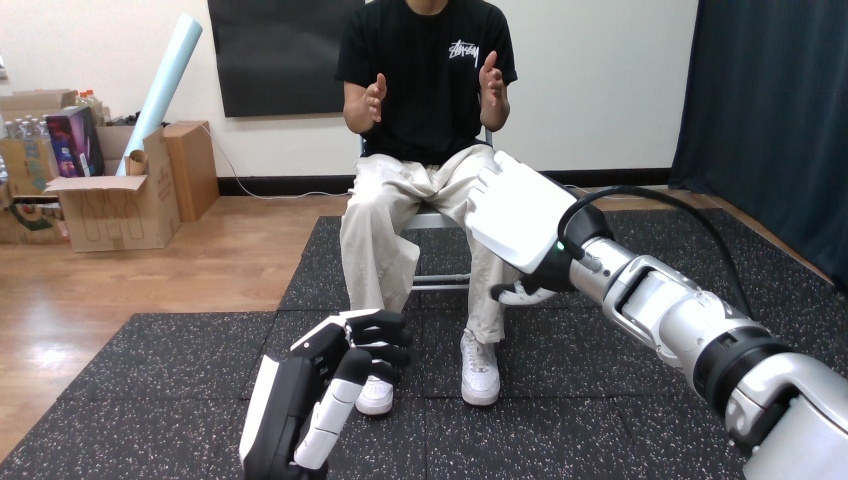left robot hand: (465, 151, 847, 478), (239, 309, 411, 479), (591, 190, 742, 312)
